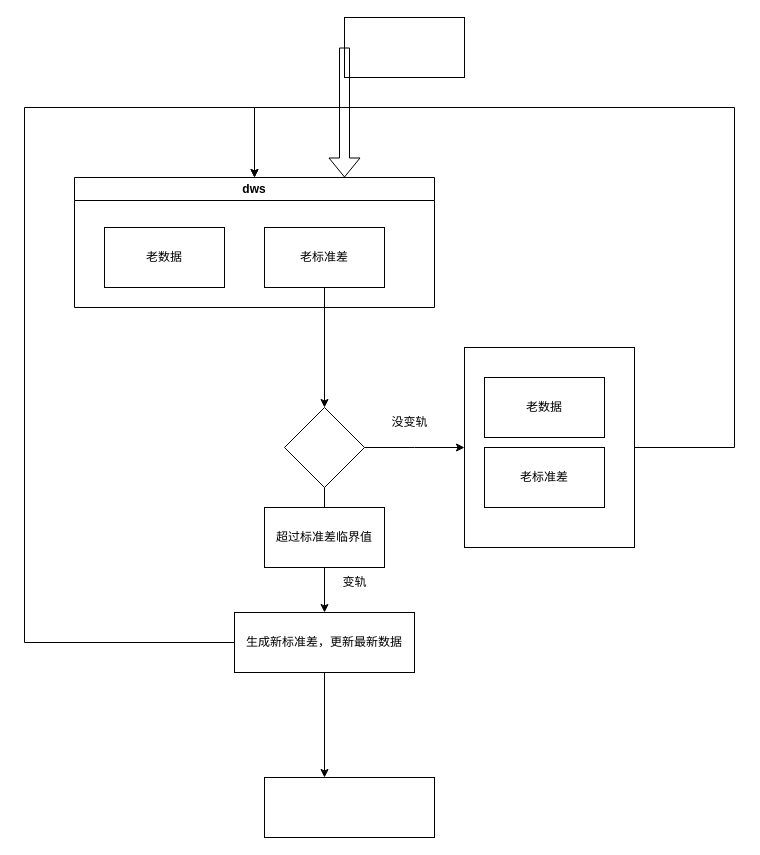
The diagram is 760 pixels wide and 855 high, and some of its shapes have lost their labels. The box of each missing label's shape, as (x1, y1, x2, y2) in pixels:
新数据: (344, 16, 464, 78)
是否变轨: (284, 406, 364, 488)
每日留存 展示变轨数据: (264, 776, 434, 838)
